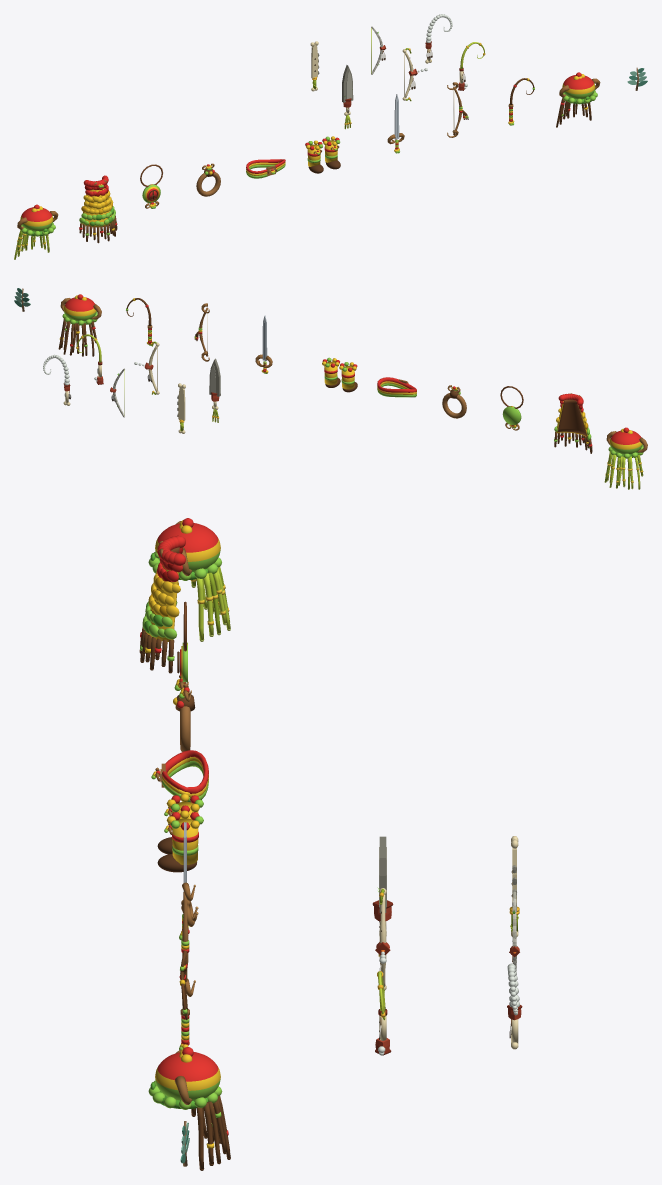
File: equipements-boufcoul.glb
The picture shows the model from 3 angles, top to bottom: view 1: azimuth 30°, elevation 25°; view 2: azimuth 150°, elevation 25°; view 3: azimuth 270°, elevation 25°; orthographic projection. The views are drawn at different scales.
Parts seen in each view (by area): view 1: bonnet.001, bonnet; view 2: doublure, bonnet.001, bonnet, sangle, anneau; view 3: bonnet.001, bonnet.
Part boxes in pixels (<box>): bonnet.001: <box>562,75,595,99</box>; bonnet: <box>20,207,53,231</box>; doublure: <box>557,399,587,438</box>; bonnet.001: <box>63,297,96,321</box>; bonnet: <box>610,430,642,454</box>; sangle: <box>377,377,416,392</box>; anneau: <box>442,393,466,418</box>; bonnet.001: <box>155,1052,220,1100</box>; bonnet: <box>155,523,220,571</box>.
Bounding box in the file's own units: 22.07 × 2.6 × 5.81.
